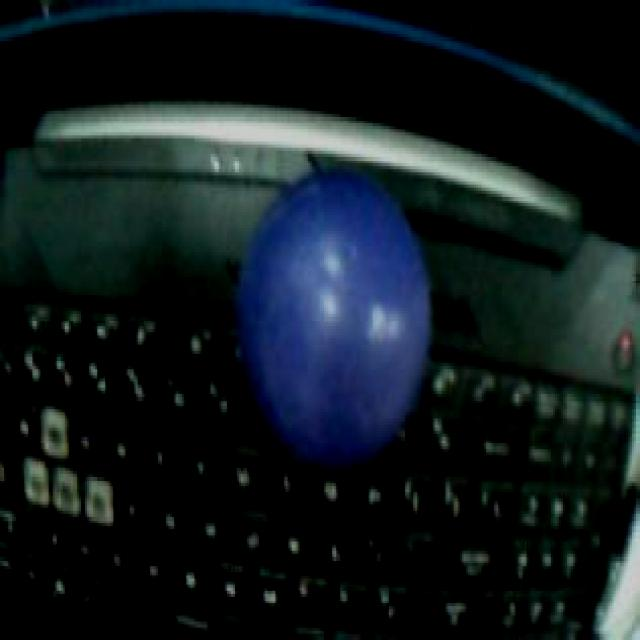BallPurple: (236, 170, 433, 471)
